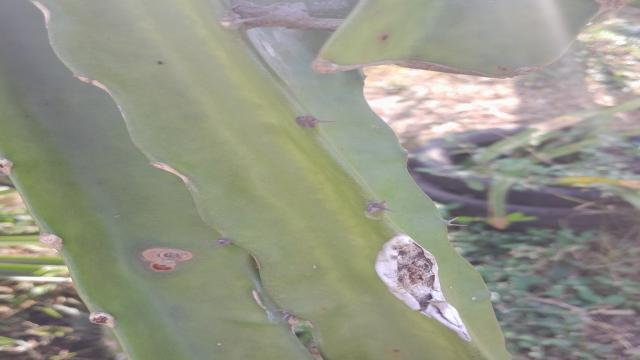stemcanker: (371, 25, 395, 47)
